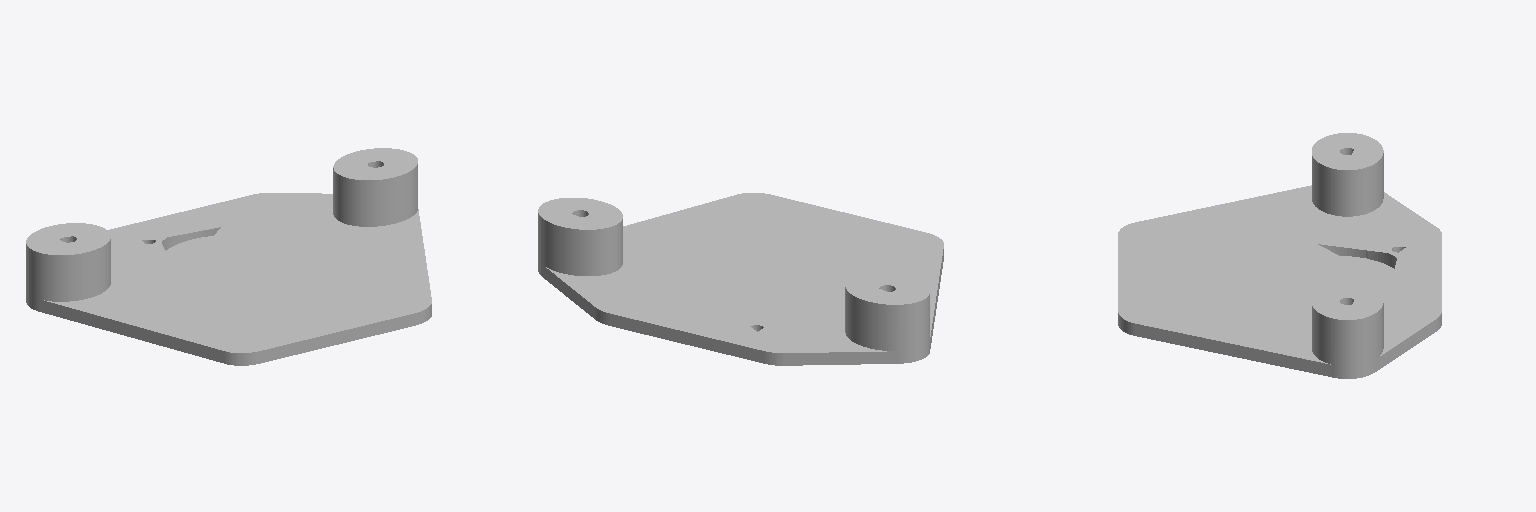
Rendered from Prints_motor_mount.obj.
3 views of the same model, side by side, from view 1: azimuth 30°, elevation 25°; view 2: azimuth 150°, elevation 25°; view 3: azimuth 270°, elevation 25° (orthographic).
Parts seen in each view (by area): view 1: motor_mount; view 2: motor_mount; view 3: motor_mount.
Boxes of the visible parts, <box> form: motor_mount: <box>26,148,431,365</box>; motor_mount: <box>538,193,943,365</box>; motor_mount: <box>1118,133,1441,378</box>.
Size of the model in its own units: 0.064 by 0.0094 by 0.0468.